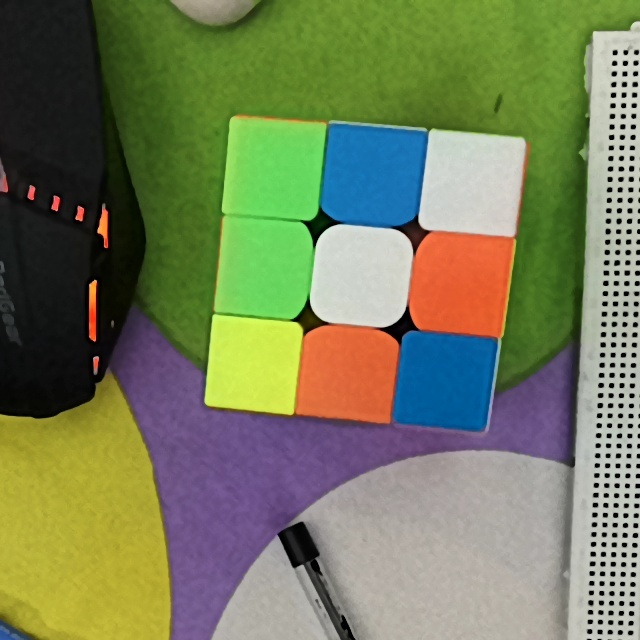tile: (332, 129, 415, 215), (231, 126, 312, 210), (434, 142, 511, 226), (426, 242, 501, 327), (407, 342, 486, 420), (216, 326, 292, 405), (309, 337, 391, 410), (225, 231, 300, 309), (322, 241, 400, 313)
